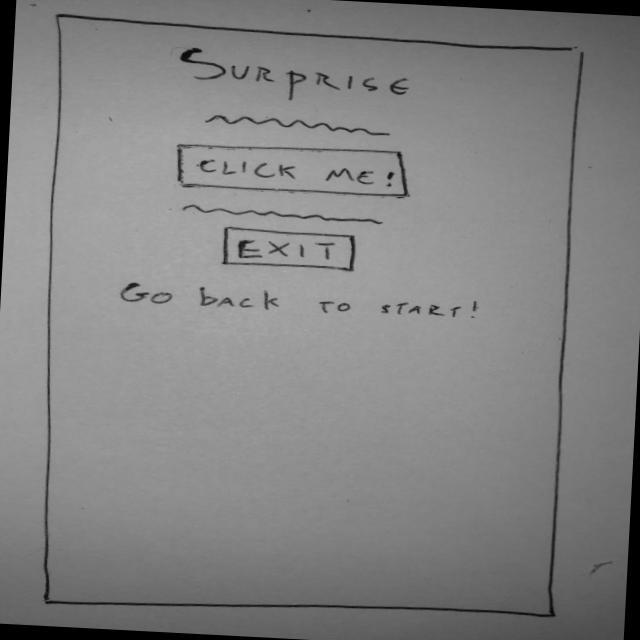button: (168, 137, 423, 201), (222, 224, 362, 275)
container: (22, 10, 595, 632)
label: (112, 276, 495, 326), (161, 40, 436, 109)
text: (186, 107, 416, 141), (180, 200, 398, 232)
